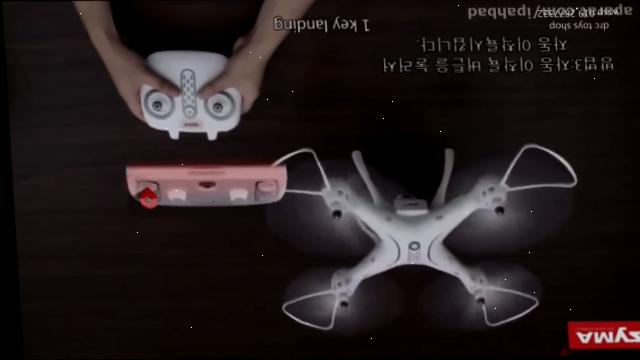drone: (255, 137, 583, 339)
